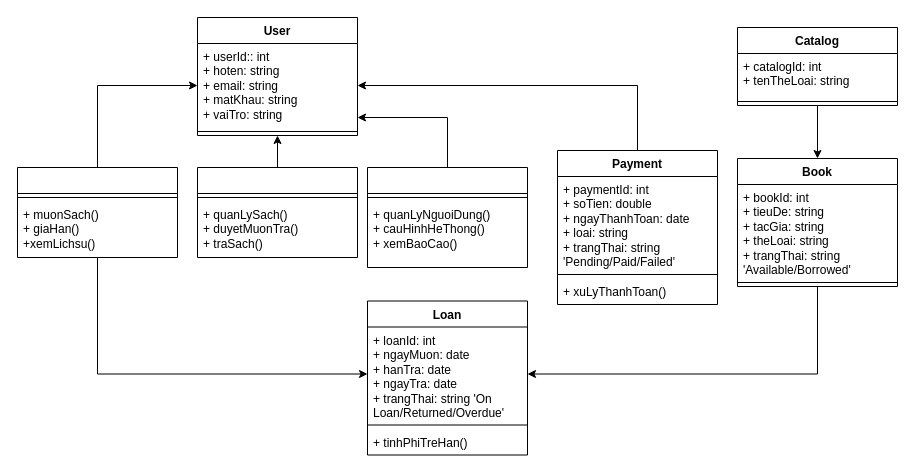
Image size: 915x475. Some labels were removed from this diagram. Each missing label, with the box of its shape:
Admin: (366, 166, 528, 268)
Người đọc: (16, 166, 178, 258)
Thủ thư: (196, 166, 358, 258)
